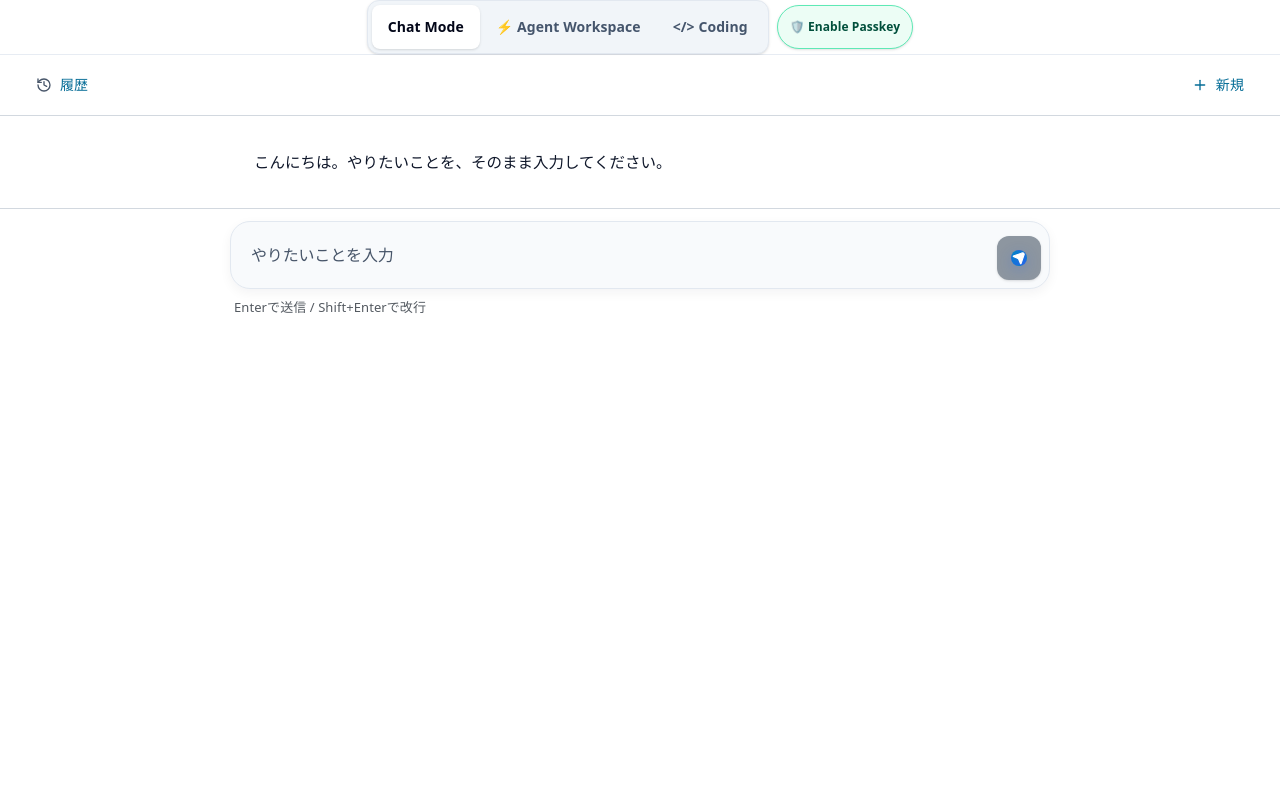
Test: UnifiedChat › withholds a Supervisor artifact when its MIME type does not match the Office format
Type "調査してPowerPointにまとめてください" into the text box with placeholder "やりたいことを入力" at (614, 255), box [239, 230, 989, 280]
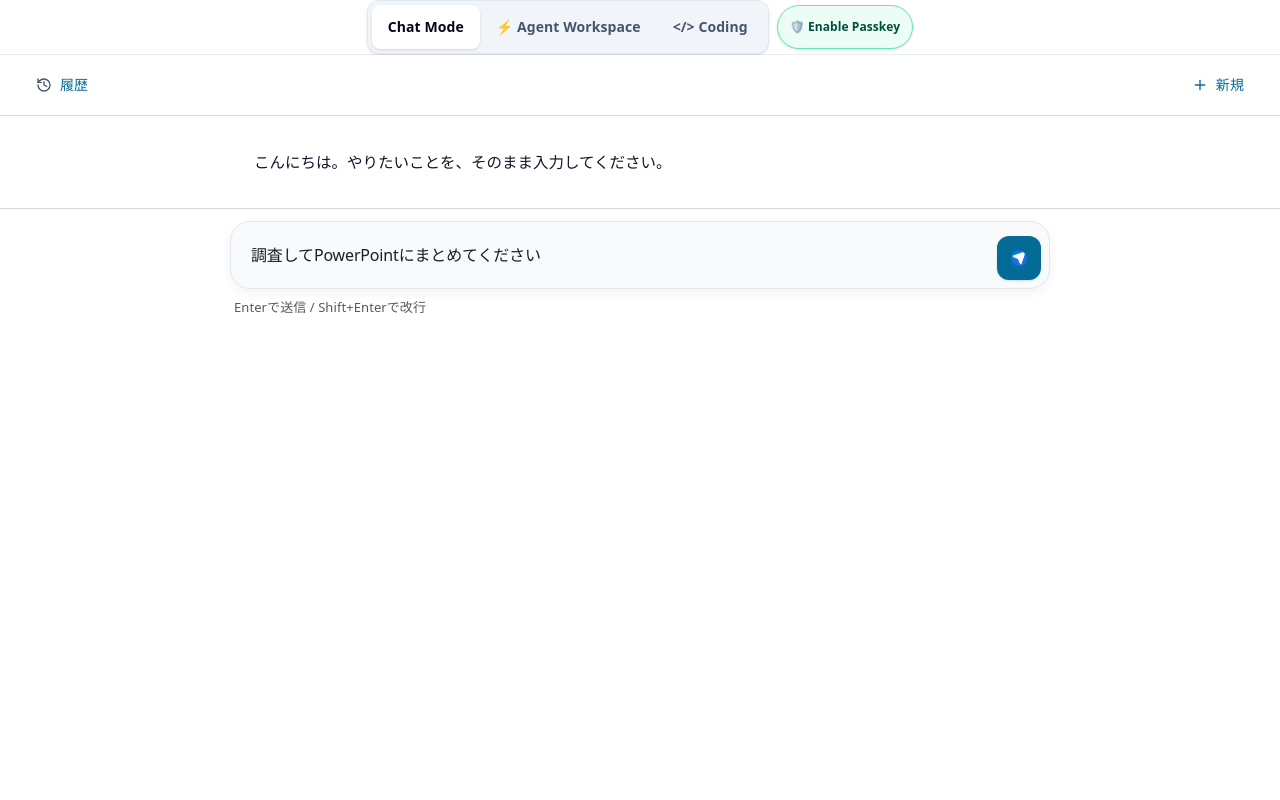
Click the button named "依頼を送信" at (1019, 258), box [997, 236, 1041, 280]
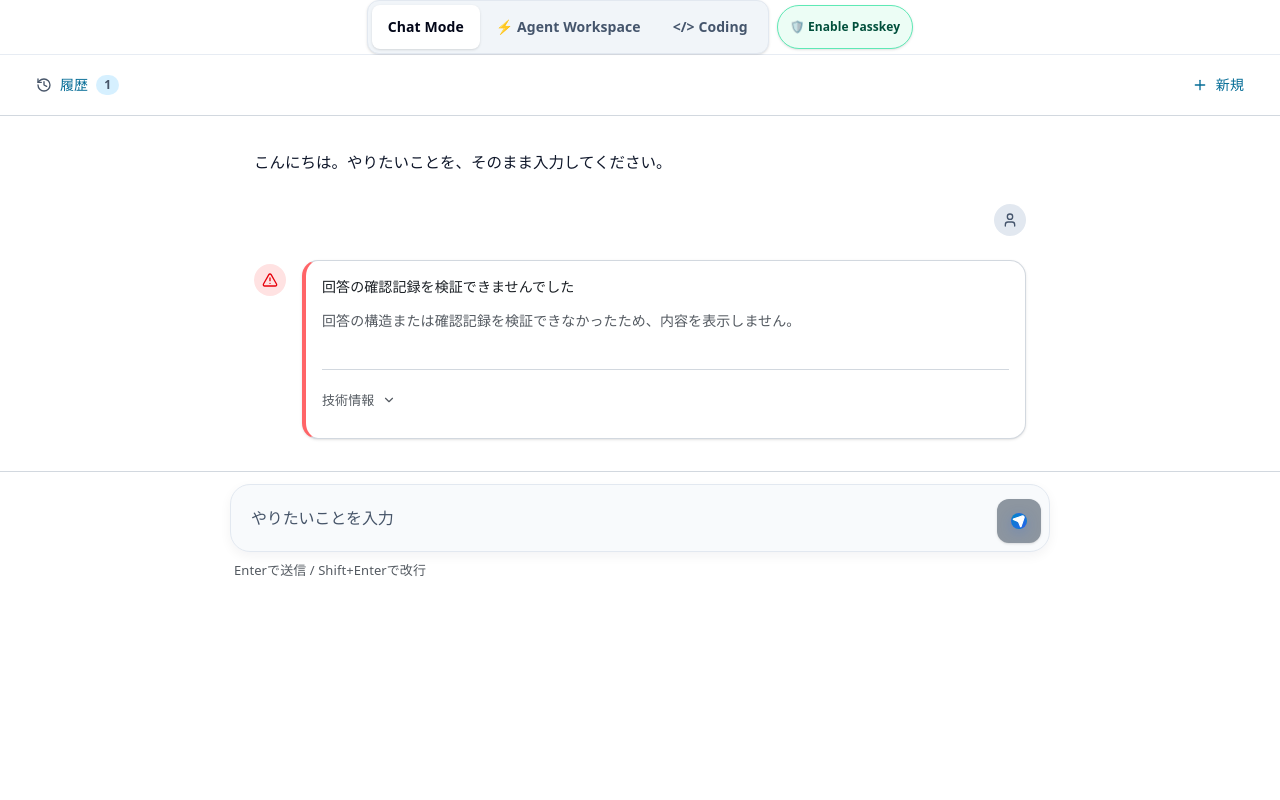
Check: the heading "回答の確認記録を検証できませんでした" is shown, box [322, 277, 574, 296]
Check: the text "回答の構造または確認記録を検証できなかったため、内容を表示しません。" is shown, box [322, 311, 800, 330]
Check: the text "技術情報" is shown, box [322, 389, 374, 411]
Click the heading "技術情報" at (359, 400), box [322, 391, 396, 409]
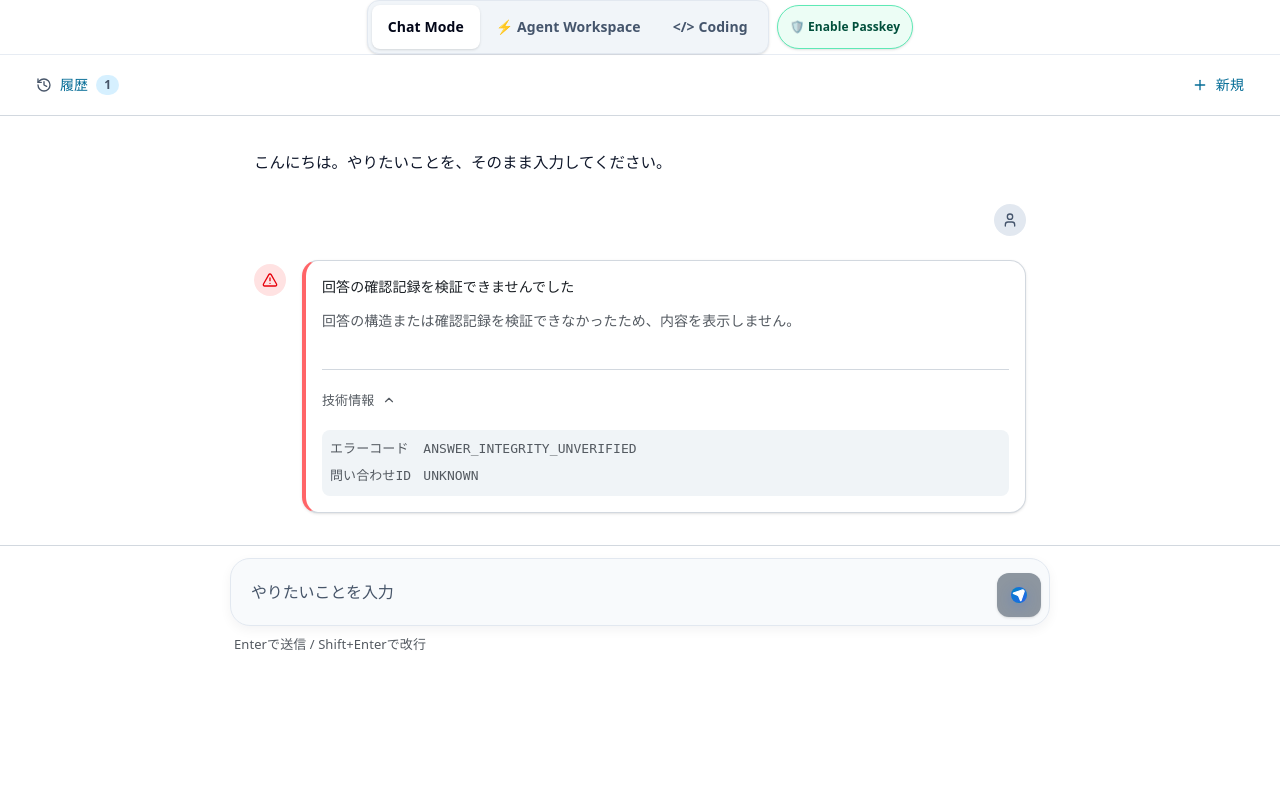
Check: the text "エラーコード" is shown, box [330, 438, 411, 461]
Check: the text "ANSWER_INTEGRITY_UNVERIFIED" is shown, box [423, 441, 637, 456]
